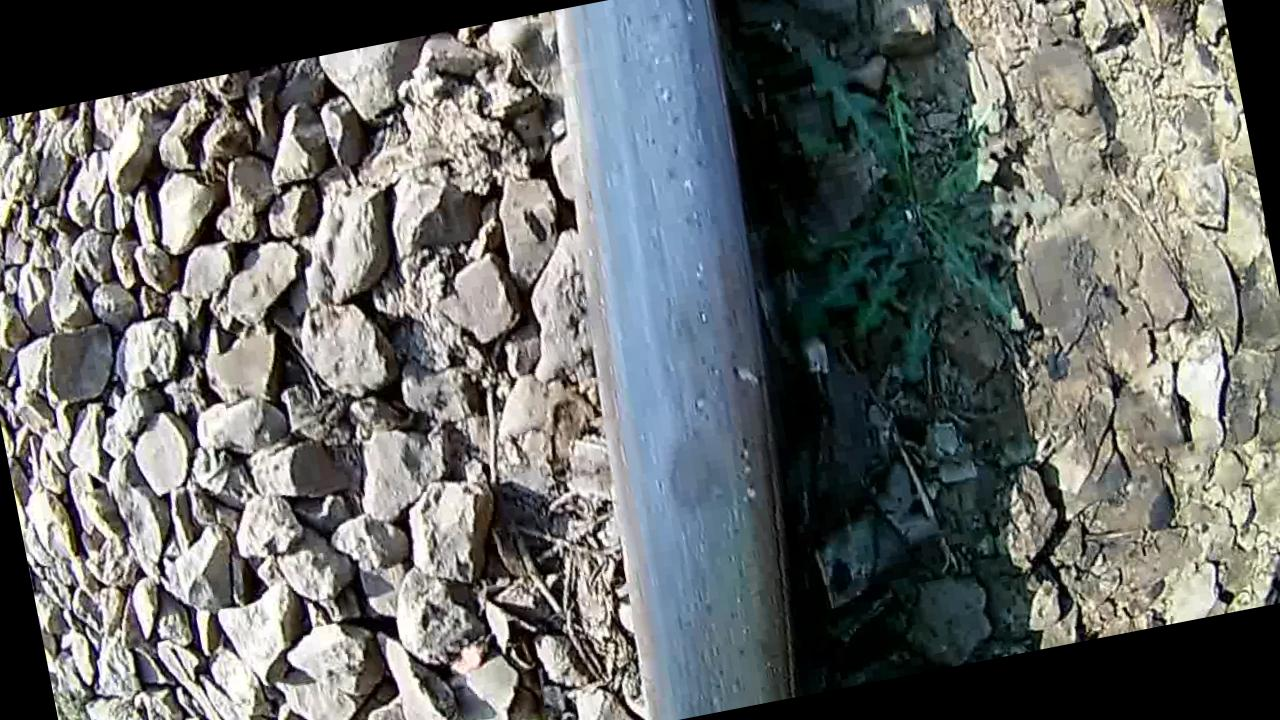bolt_missing: (607, 275, 809, 579)
